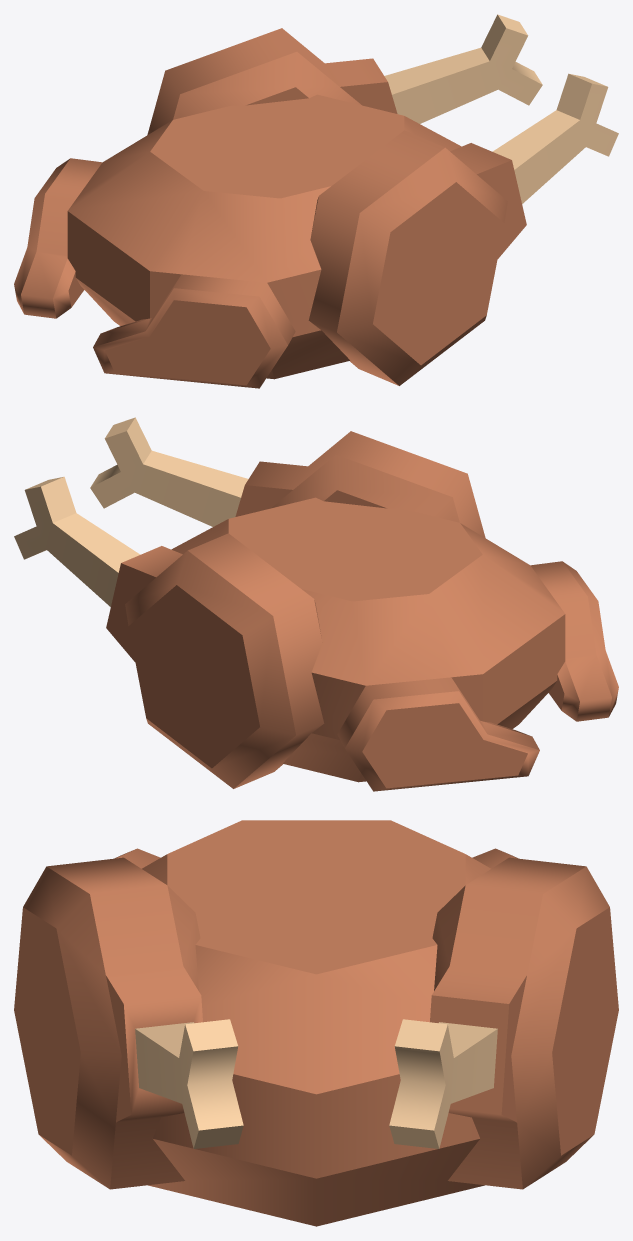
The model's file is Turkey.glb.
The picture shows the model from 3 angles, top to bottom: view 1: azimuth 30°, elevation 25°; view 2: azimuth 150°, elevation 25°; view 3: azimuth 270°, elevation 25°; orthographic projection. The views are drawn at different scales.
Parts seen in each view (by area): view 1: turkey, leg, leg_1; view 2: turkey, leg_1, leg; view 3: turkey, leg, leg_1.
Boxes of the visible parts, x1=… form: turkey: x1=14, y1=94, x2=461, y2=388; leg: x1=308, y1=73, x2=618, y2=385; leg_1: x1=147, y1=14, x2=542, y2=134; turkey: x1=171, y1=497, x2=618, y2=791; leg_1: x1=14, y1=476, x2=324, y2=788; leg: x1=90, y1=417, x2=485, y2=537; turkey: x1=114, y1=820, x2=518, y2=1226; leg: x1=14, y1=857, x2=243, y2=1189; leg_1: x1=389, y1=857, x2=618, y2=1189.
Bounding box in the file's own units: 0.9348 × 0.3769 × 0.679.
